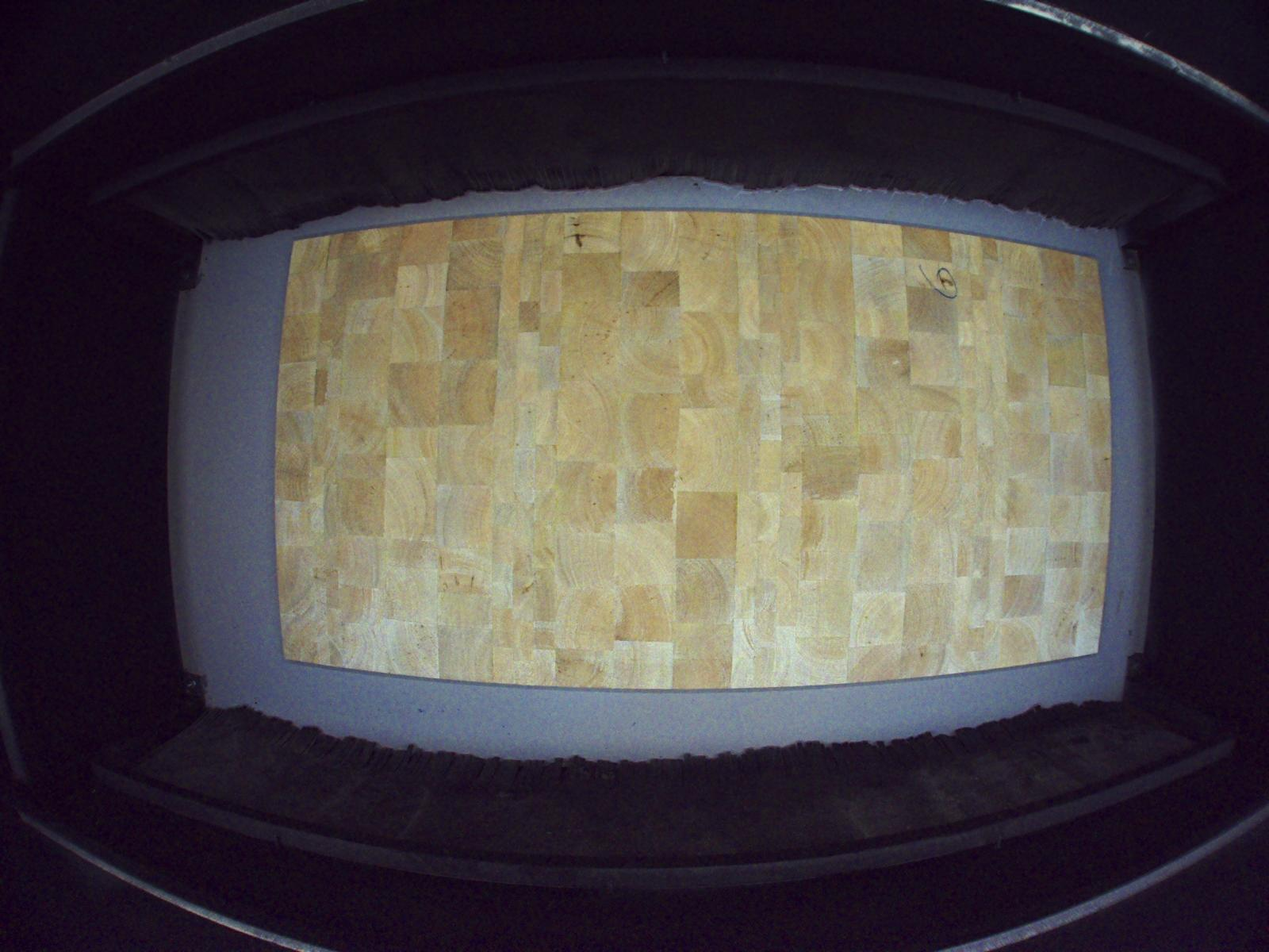sheck_ecuatoriano: (564, 232, 603, 250), (936, 262, 954, 292)
